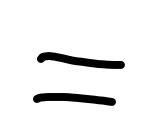eqv: (33, 52, 125, 106)
